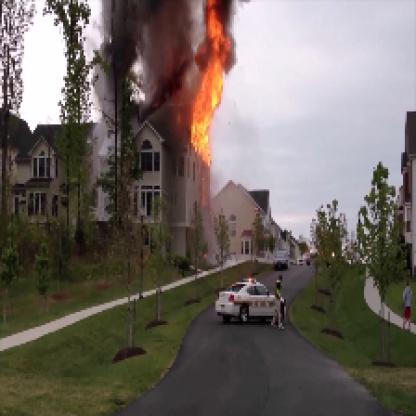Fire: (188, 2, 234, 167)
Smoke: (97, 2, 193, 121)
